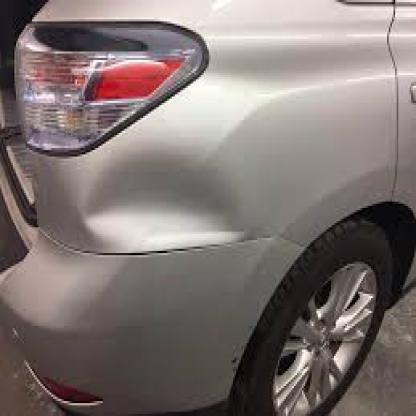dent: (80, 146, 252, 258)
